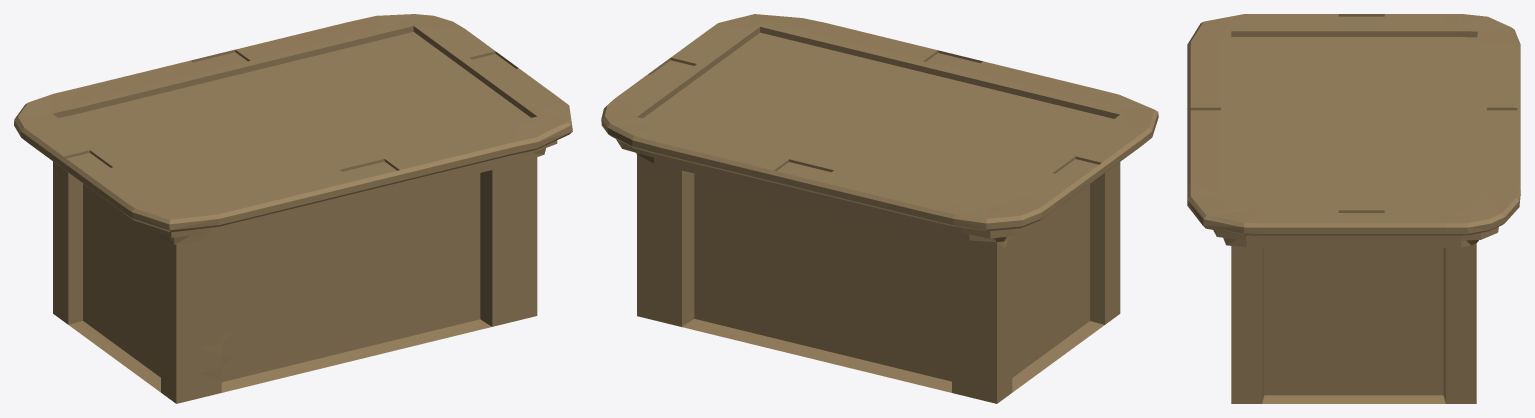
Rendered from table1.fbx.
3 views of the same model, side by side, from view 1: azimuth 30°, elevation 25°; view 2: azimuth 150°, elevation 25°; view 3: azimuth 270°, elevation 25° (orthographic).
Parts seen in each view (by area): view 1: pCube1; view 2: pCube1; view 3: pCube1.
Part boxes in pixels (x1,y1,x2,y2): pCube1: (14, 14, 572, 403); pCube1: (601, 14, 1158, 403); pCube1: (1187, 14, 1520, 403).
Bounding box in the file's own units: 3.64 × 1.59 × 2.42.
